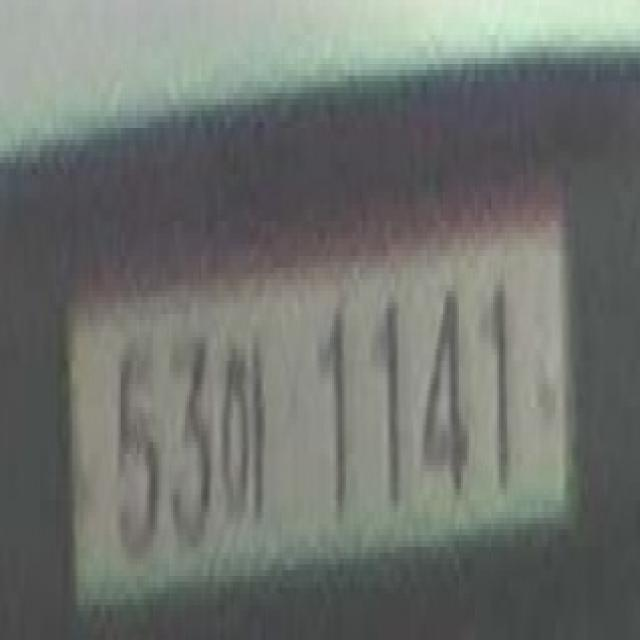1: (368, 274, 417, 536), (316, 256, 354, 535), (481, 262, 521, 524)
3: (165, 308, 211, 564)
4: (425, 256, 479, 541)
5: (103, 332, 165, 576)
ha: (219, 308, 290, 530)
license_plate: (44, 169, 576, 634)
